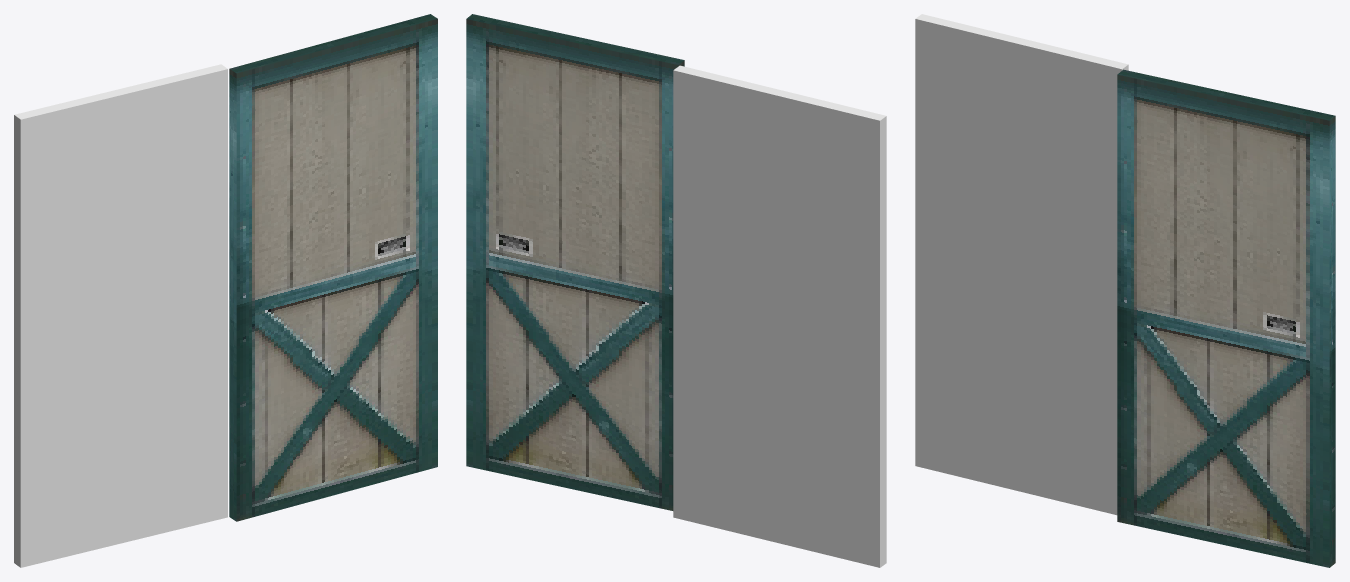
The model's file is door_shed_double.glb.
The picture shows the model from 3 angles, left to right: view 1: azimuth 30°, elevation 25°; view 2: azimuth 150°, elevation 25°; view 3: azimuth 330°, elevation 25°; orthographic projection.
Parts seen in each view (by area): view 1: Door_Shed_A; view 2: Door_Shed_A; view 3: Door_Shed_A.
Boxes of the visible parts, x1,y1,x2,y2 form: Door_Shed_A: (14,14,437,567); Door_Shed_A: (466,14,886,567); Door_Shed_A: (915,14,1335,567).
Size of the model in its own units: 1.84 by 1.89 by 0.1015.
Materials: 2 (1 with a texture image).
